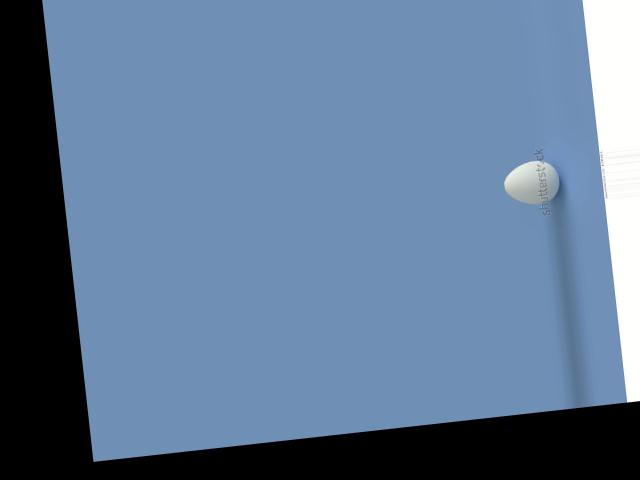egg: (501, 157, 562, 207)
